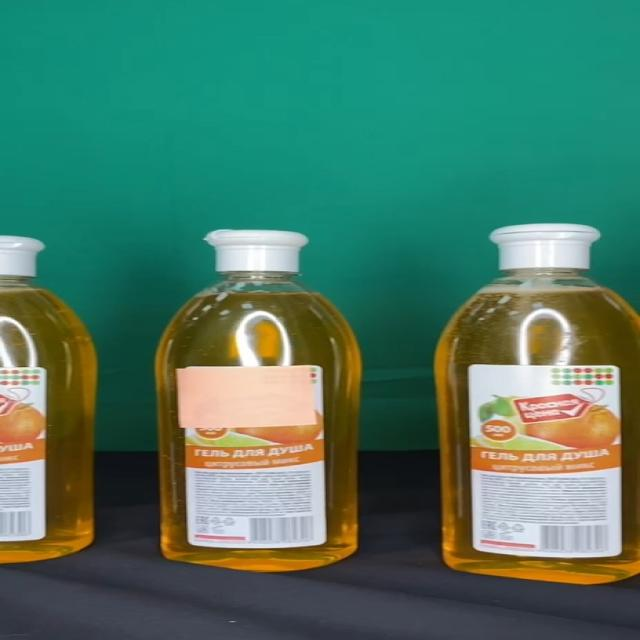Bottle: (434, 224, 640, 584), (158, 228, 362, 572)
Cap: (490, 224, 600, 268), (205, 229, 310, 272)
